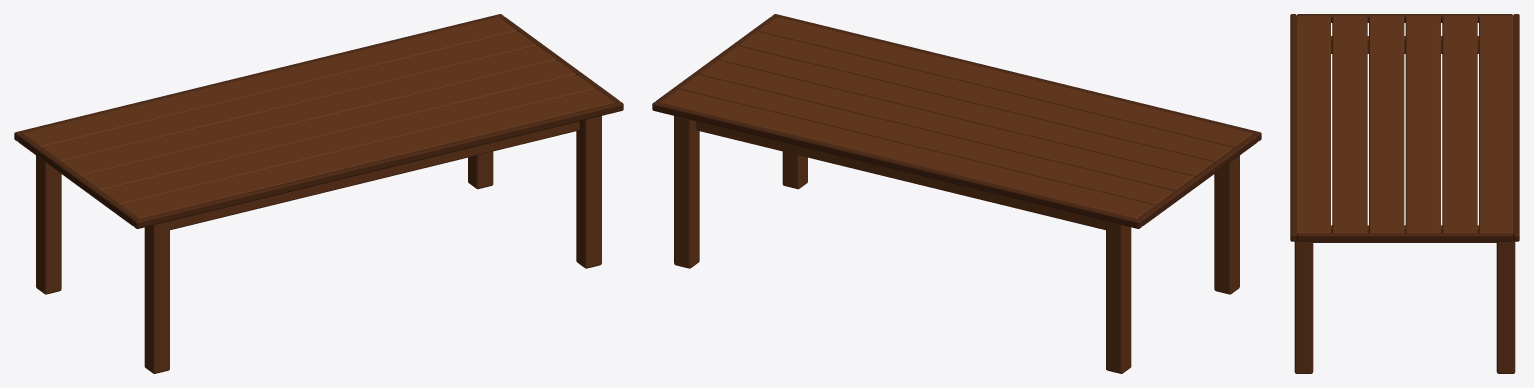
The model's file is teak-dining-table-lod0.glb.
The picture shows the model from 3 angles, left to right: view 1: azimuth 30°, elevation 25°; view 2: azimuth 150°, elevation 25°; view 3: azimuth 270°, elevation 25°; orthographic projection. The views are drawn at different scales.
Visible parts, largest first — view 1: Oiled teak, Teak end grain; view 2: Oiled teak, Teak end grain; view 3: Oiled teak, Teak end grain.
Part boxes in pixels (x1,y1,x2,y2): Oiled teak: (22,17,614,373); Teak end grain: (14,14,623,228); Oiled teak: (661,17,1253,373); Teak end grain: (652,14,1261,228); Oiled teak: (1294,16,1515,373); Teak end grain: (1290,14,1519,241).
Bounding box in the file's own units: 2.44 × 0.762 × 1.07.
